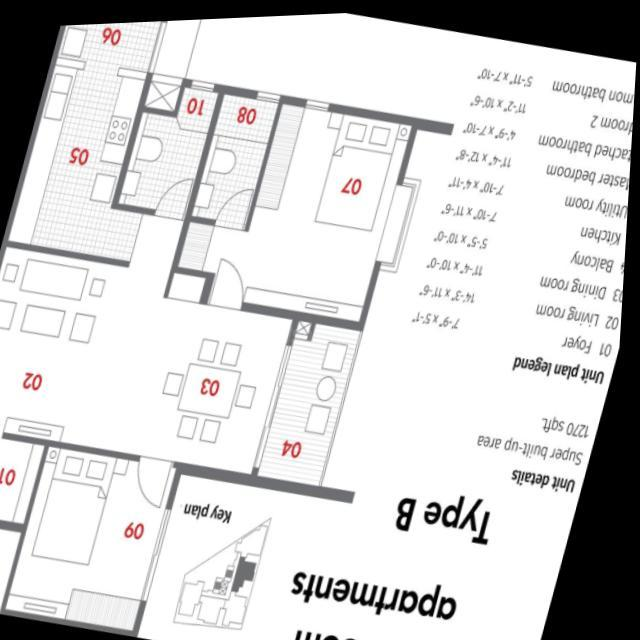Balcony-Sitout: (261, 311, 366, 481)
Bedroom: (12, 438, 185, 629)
Bedroom with Toilet: (171, 85, 421, 324)
Dining: (157, 326, 273, 446)
Enterance-Foyer: (0, 428, 54, 524)
Kitchen: (12, 17, 164, 252)
Living: (0, 244, 174, 447)
Toilet: (118, 76, 222, 214), (194, 88, 283, 224)
